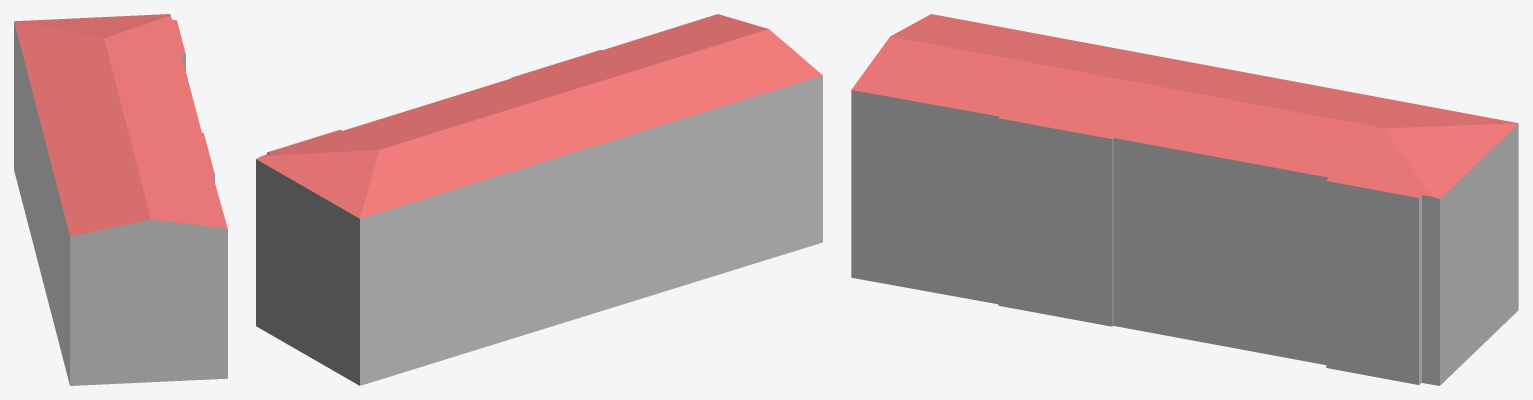
The model's file is DEBY_LOD2_4906974.gltf.
3 views of the same model, side by side, from view 1: azimuth 30°, elevation 25°; view 2: azimuth 150°, elevation 25°; view 3: azimuth 270°, elevation 25° (orthographic). The views are drawn at different scales.
Parts seen in each view (by area): view 1: Z_UP; view 2: Z_UP; view 3: Z_UP.
Part boxes in pixels (bbox=[...]): Z_UP: bbox=[14, 14, 227, 385]; Z_UP: bbox=[256, 14, 822, 385]; Z_UP: bbox=[851, 14, 1518, 385].
Bounding box in the file's own units: 21.78 × 11.18 × 33.19.
